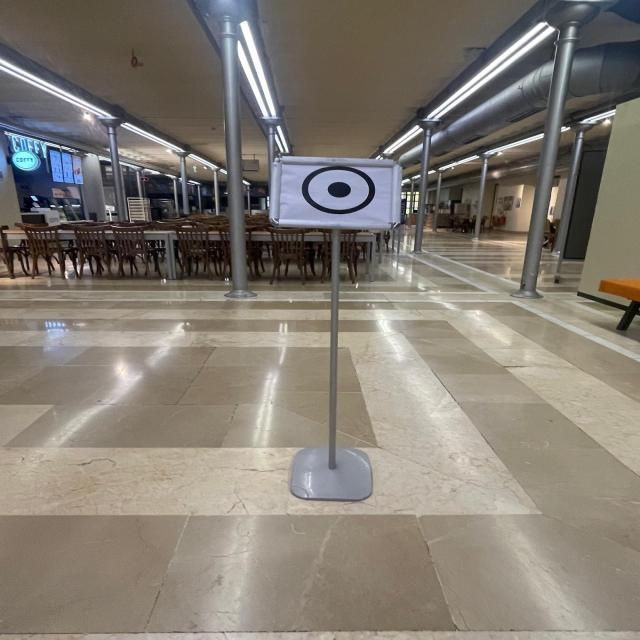Target: (261, 143, 413, 237)
inner: (323, 174, 356, 205)
